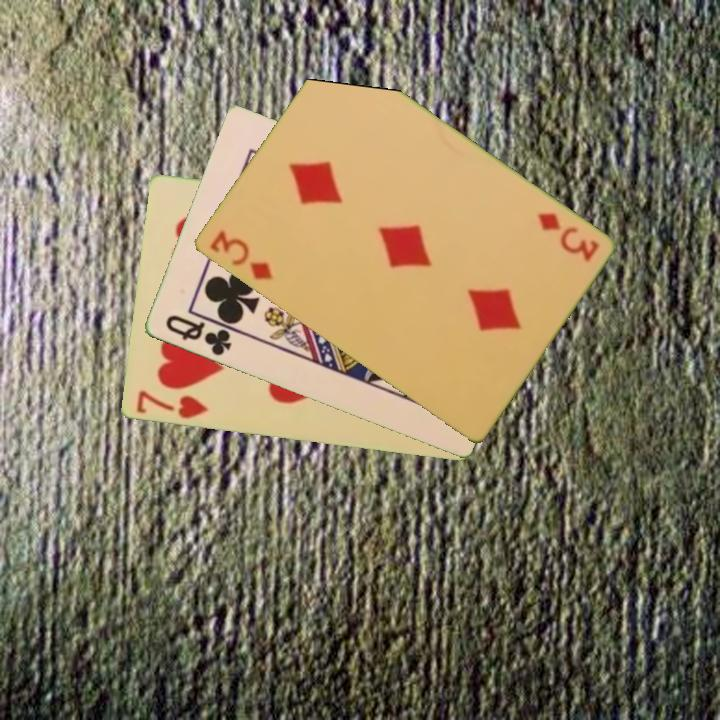3d: (205, 226, 275, 284), (533, 209, 601, 265)
7h: (132, 387, 211, 422)
Qc: (161, 311, 234, 359)
